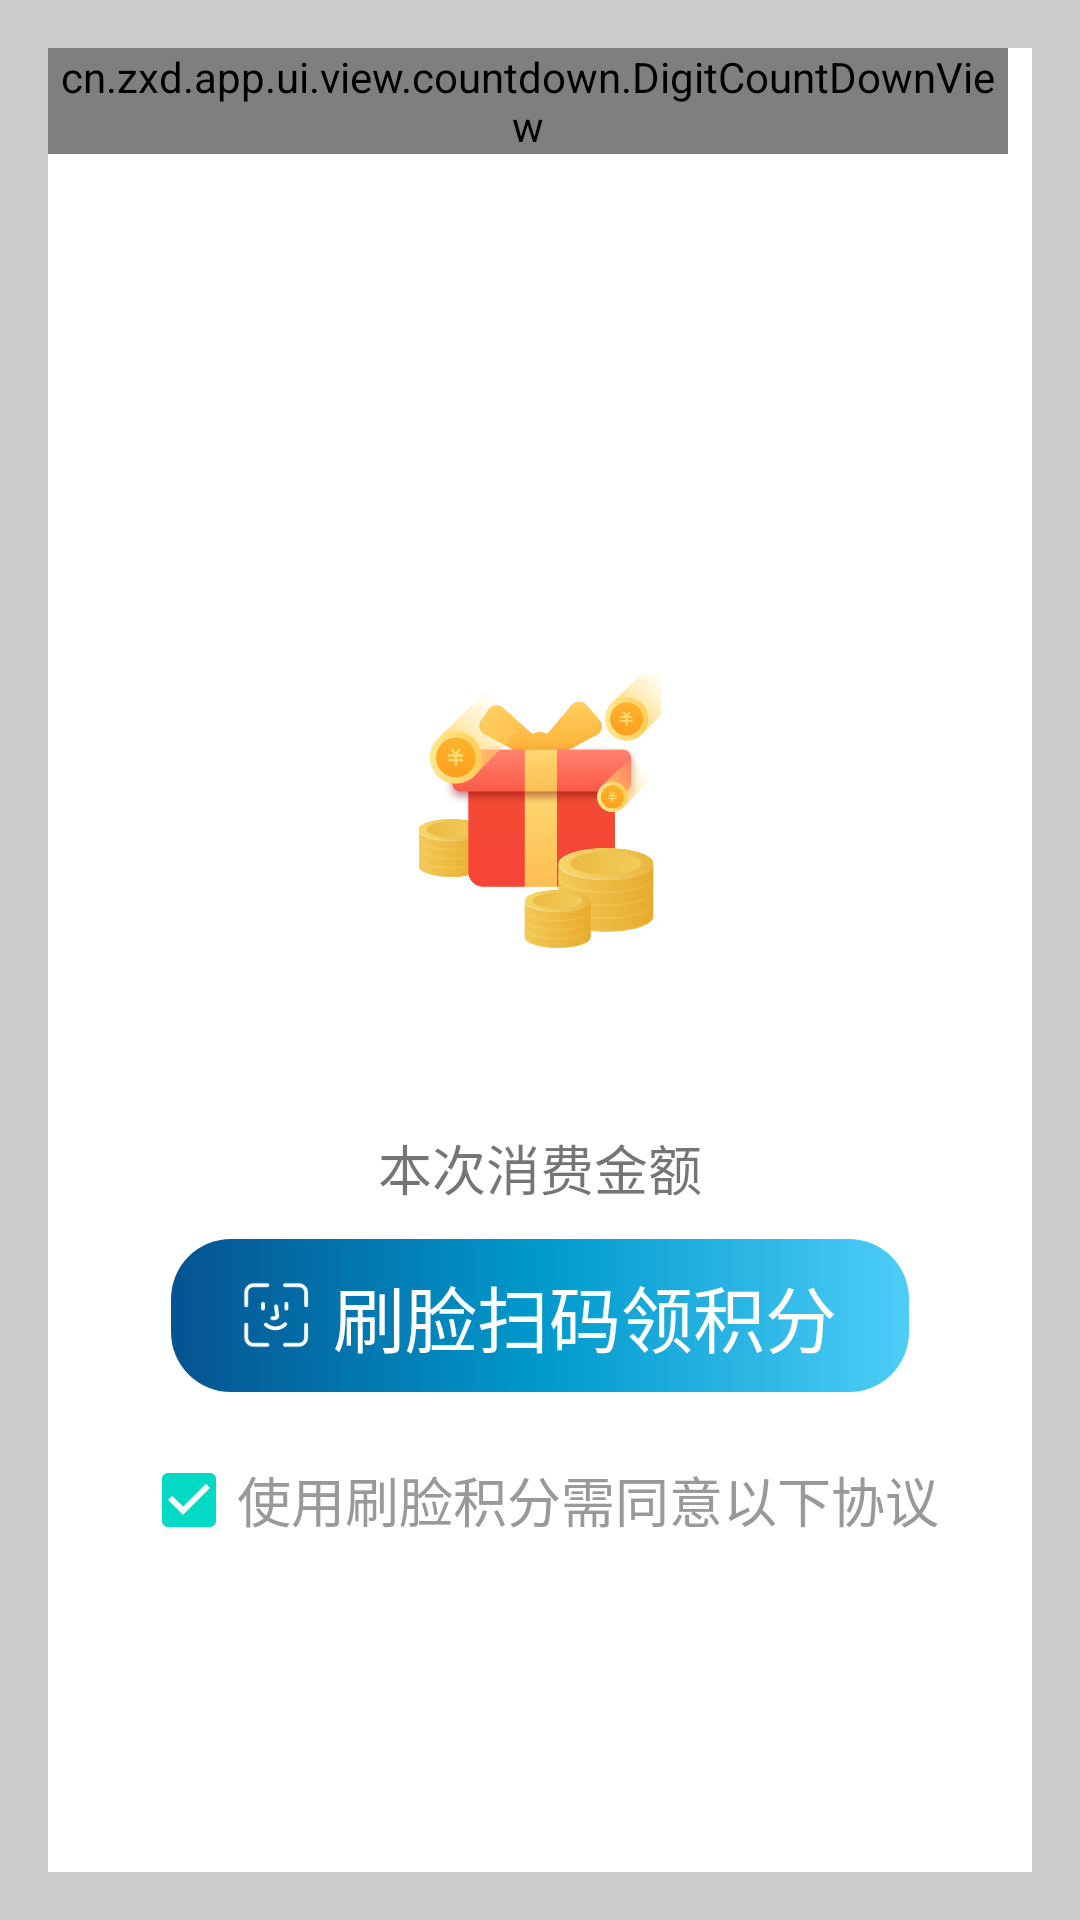

Locate icon controls on the screen. Image size 1080 x 1920, boxes as box(x1, y1, x2, y2).
face recog: box(244, 1283, 309, 1347)
gift: box(419, 673, 661, 948)
